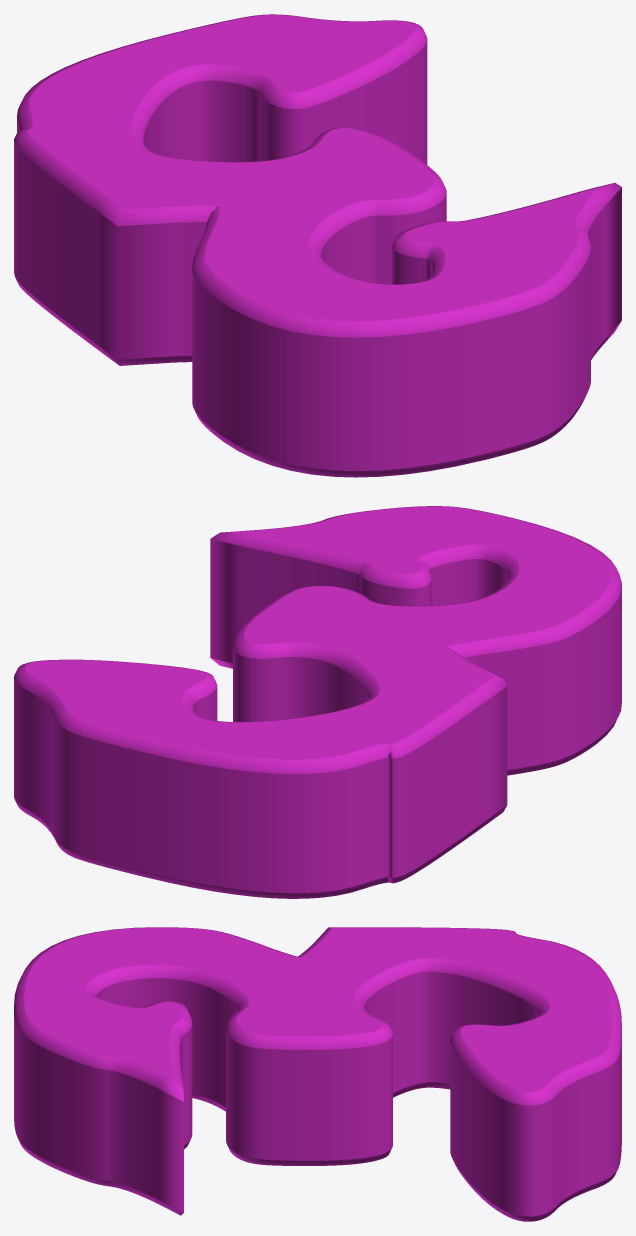
The model's file is Bubble_Number3.fbx.
3 renders of one model, top to bottom at view 1: azimuth 30°, elevation 25°; view 2: azimuth 150°, elevation 25°; view 3: azimuth 270°, elevation 25°, orthographic. The views are drawn at different scales.
Visible parts, largest first — view 1: BubbleNumber_3; view 2: BubbleNumber_3; view 3: BubbleNumber_3.
Boxes of the visible parts, x1,y1,x2,y2 form: BubbleNumber_3: (14, 14, 621, 477); BubbleNumber_3: (14, 506, 621, 898); BubbleNumber_3: (14, 927, 621, 1221).
Bounding box in the file's own units: 0.4022 × 0.14 × 0.5965.
